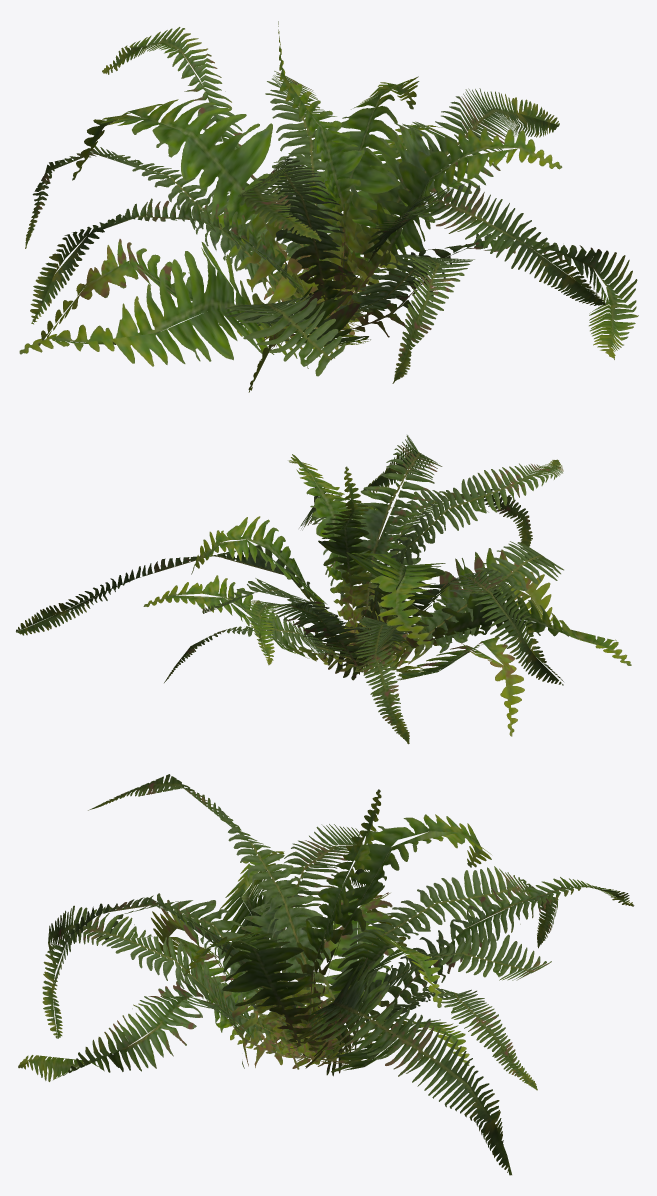
File: Plant_B.glb
3 views of the same model, one above another, from view 1: azimuth 30°, elevation 25°; view 2: azimuth 150°, elevation 25°; view 3: azimuth 270°, elevation 25° (orthographic). The views are drawn at different scales.
Visible parts, largest first — view 1: Plant_B_instance.001; view 2: Plant_B_instance.001; view 3: Plant_B_instance.001.
Part boxes in pixels (left/top/right/bottom): Plant_B_instance.001: left=19, top=21, right=638, bottom=392; Plant_B_instance.001: left=16, top=435, right=631, bottom=744; Plant_B_instance.001: left=18, top=774, right=634, bottom=1175.
Bounding box in the file's own units: 0.8745 × 0.3865 × 0.7662.
1 material, 1 textured.
